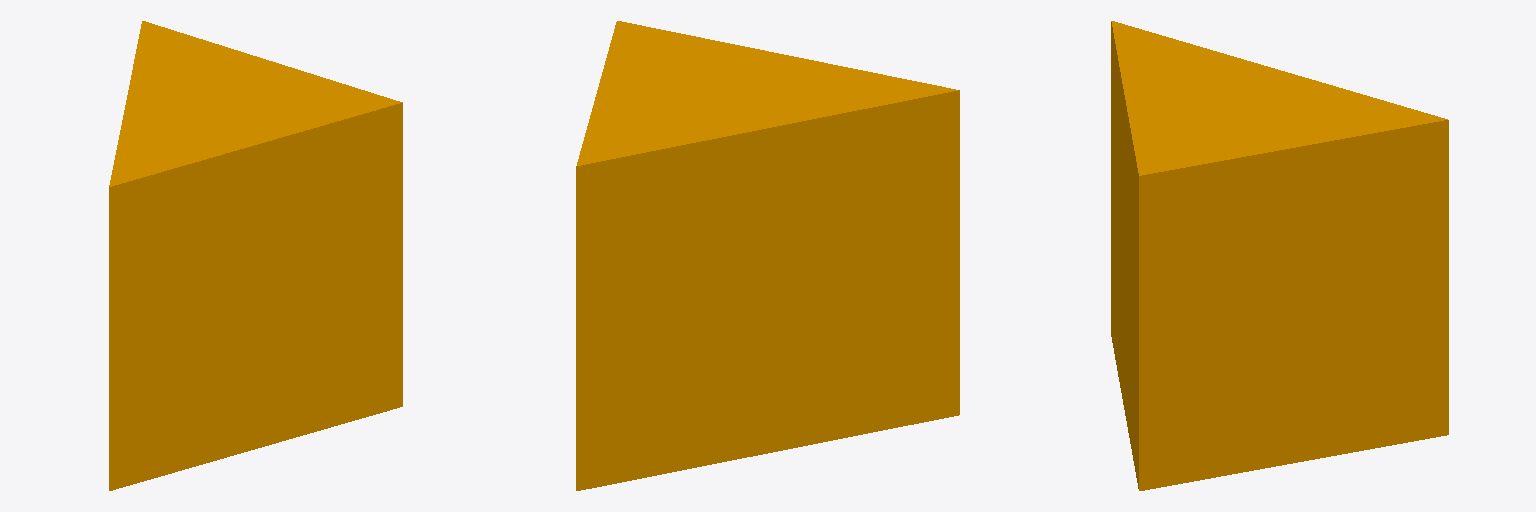
URDF robot description (object):
<?xml version="1.0"?>
<robot name="object">
  <link name="object">
    <visual>
      <origin xyz="0 0 0"/>
      <geometry>
        <mesh filename="meshes/generated/col_017.obj" scale="0.03 0.03 0.03"/>
      </geometry>
    </visual>
    <collision>
      <origin xyz="0 0 0"/>
      <geometry>
        <mesh filename="meshes/generated/col_017.obj" scale="0.03 0.03 0.03"/>
      </geometry>
    </collision>
    <inertial>
      <density value="1000.0"/>
    </inertial>
  </link>
</robot>

--- Facts derived from the render (not from the file) ---
The picture shows the robot from 3 angles, left to right: view 1: azimuth 30°, elevation 25°; view 2: azimuth 150°, elevation 25°; view 3: azimuth 270°, elevation 25°; orthographic projection.
Model object with 1 links and 0 joints (none), rooted at object, posed all joints at 0.
Visible links, largest first — view 1: object; view 2: object; view 3: object.
Link boxes in pixels (bbox=[...]): object: bbox=[109, 21, 402, 490]; object: bbox=[576, 21, 959, 490]; object: bbox=[1111, 21, 1448, 490].
Bounding box of the posed robot: 0.0634 × 0.0582 × 0.06 m (x, y, z).
Meshes: 1 distinct files referenced, 1 mesh visuals loaded (1 OBJ).
